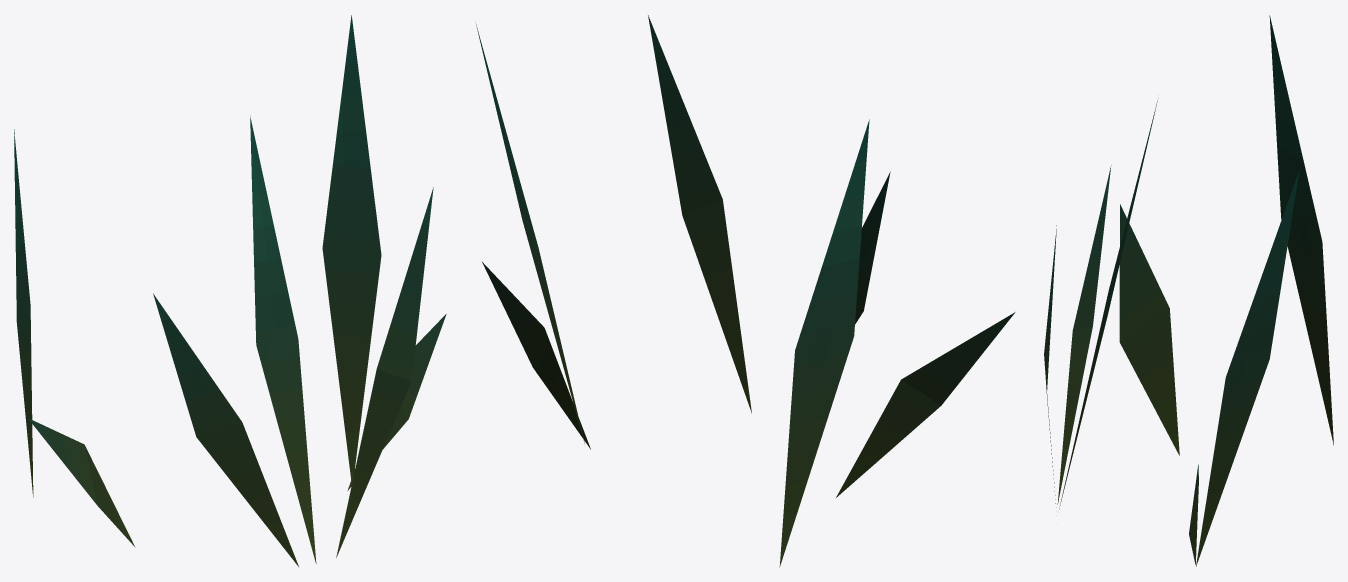
The model's file is plants_me_level_grass31.gltf.
3 views of the same model, side by side, from view 1: azimuth 30°, elevation 25°; view 2: azimuth 150°, elevation 25°; view 3: azimuth 270°, elevation 25° (orthographic). The views are drawn at different scales.
Visible parts, largest first — view 1: um_plants_me_level_grass31_model_plants_me_level_grass31_mod; view 2: um_plants_me_level_grass31_model_plants_me_level_grass31_mod; view 3: um_plants_me_level_grass31_model_plants_me_level_grass31_mod.
Part boxes in pixels (x1,y1,x2,y2): um_plants_me_level_grass31_model_plants_me_level_grass31_mod: (14, 15, 446, 566); um_plants_me_level_grass31_model_plants_me_level_grass31_mod: (476, 15, 1015, 567); um_plants_me_level_grass31_model_plants_me_level_grass31_mod: (1044, 15, 1333, 566).
Size of the model in its own units: 0.4592 by 0.4072 by 0.2517.
1 material, 1 textured.
